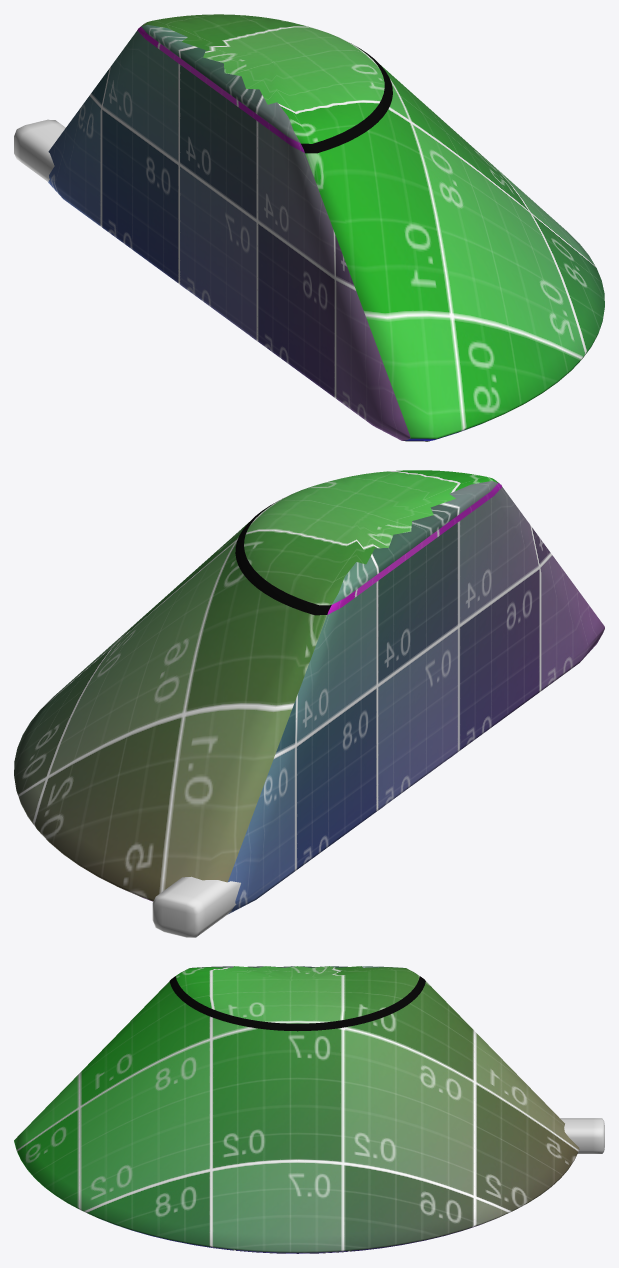
File: charging dock.fbx
The picture shows the model from 3 angles, top to bottom: view 1: azimuth 30°, elevation 25°; view 2: azimuth 150°, elevation 25°; view 3: azimuth 270°, elevation 25°; orthographic projection. The views are drawn at different scales.
Visible parts, largest first — view 1: Connect, Cube; view 2: Connect, Cube; view 3: Connect, Cube.
Part boxes in pixels (x1=…): Connect: x1=48, y1=14, x2=604, y2=441; Cube: x1=14, y1=119, x2=65, y2=181; Connect: x1=14, y1=470, x2=604, y2=914; Cube: x1=152, y1=876, x2=240, y2=937; Connect: x1=14, y1=966, x2=579, y2=1253; Cube: x1=560, y1=1118, x2=604, y2=1153.
Size of the model in its own units: 165 by 115 by 344.
Materials: 2 (1 with a texture image).
